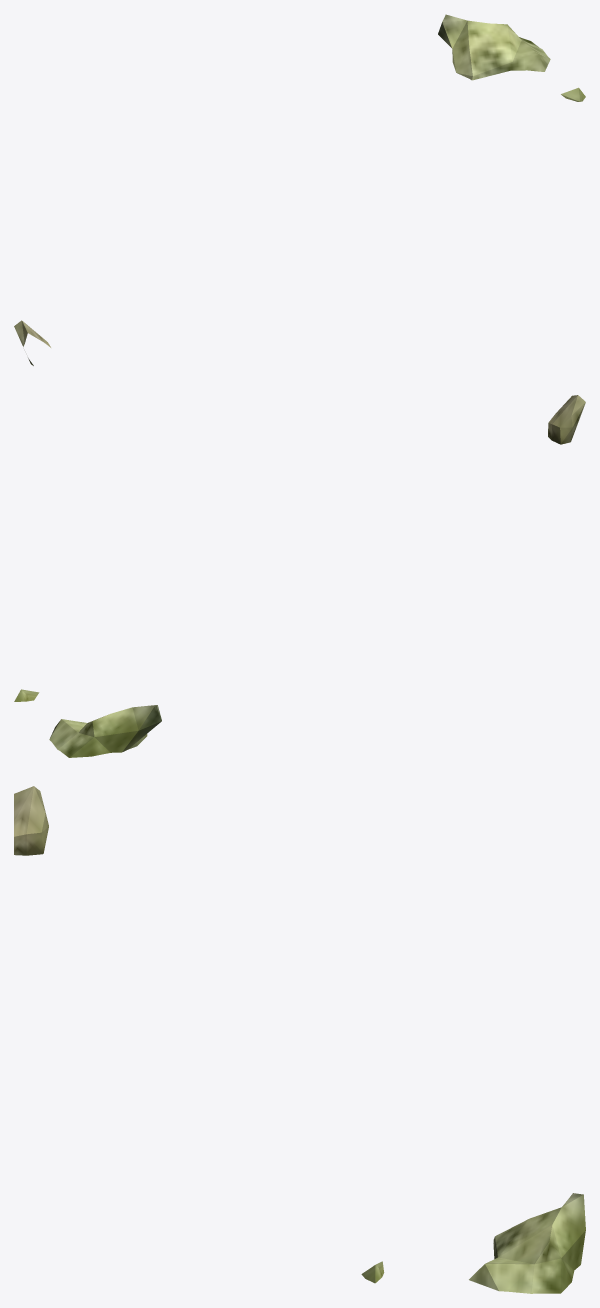
3 renders of one model, top to bottom at view 1: azimuth 30°, elevation 25°; view 2: azimuth 210°, elevation 25°; view 3: azimuth 270°, elevation 25°, orthographic. The views are drawn at different scales.
Size of the model in its own units: 11.29 by 0.6294 by 5.97.
1 material, 1 textured.
